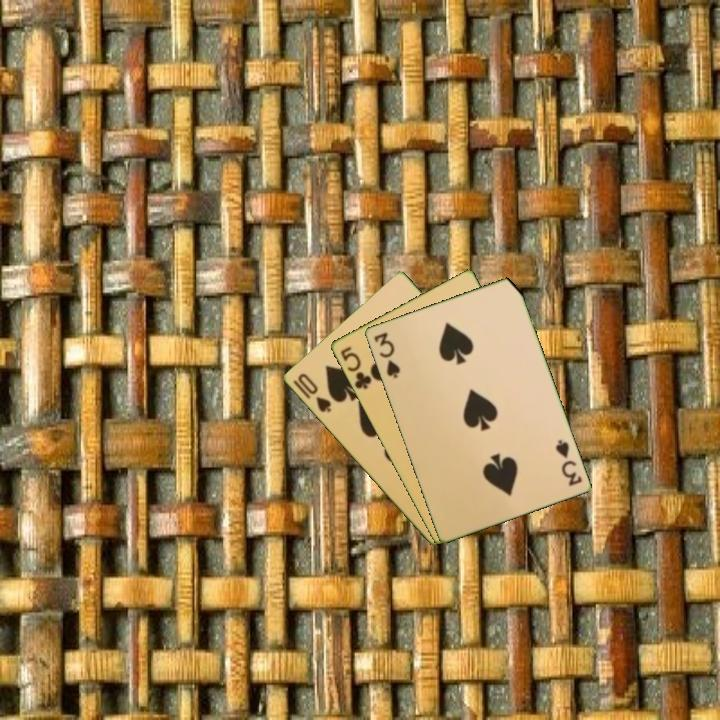10s: (293, 369, 334, 415)
3s: (551, 436, 585, 489), (370, 328, 403, 381)
5c: (336, 342, 374, 392)
